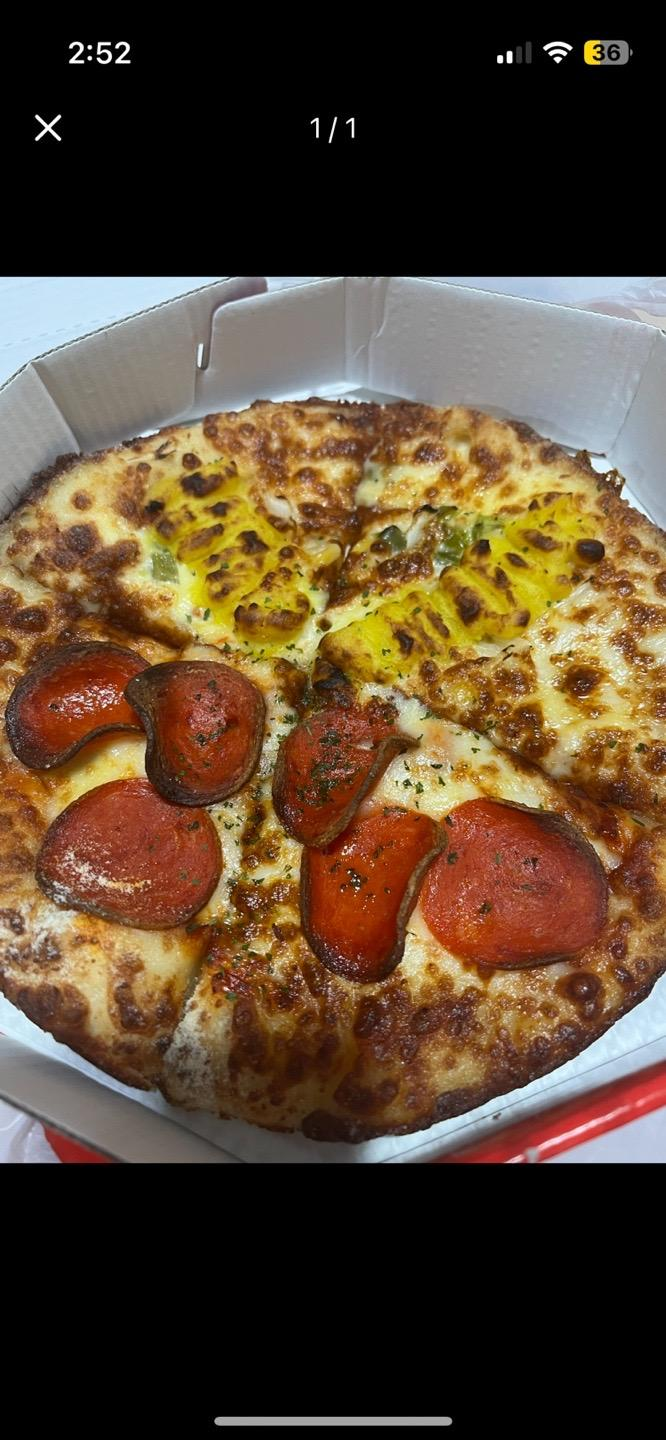Lunch Box: (0, 278, 665, 1162)
